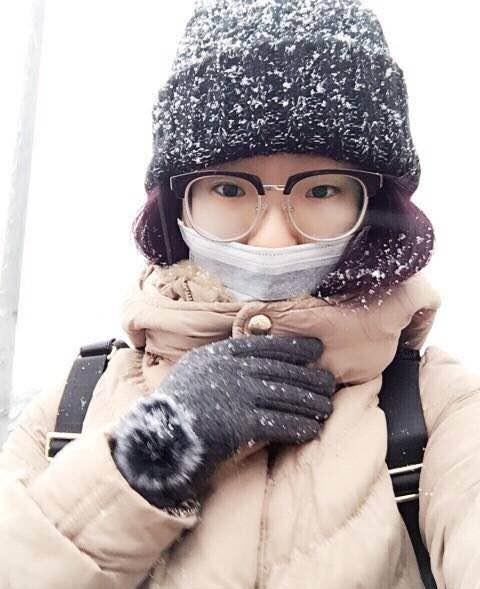WRONG: (180, 136, 366, 322)
